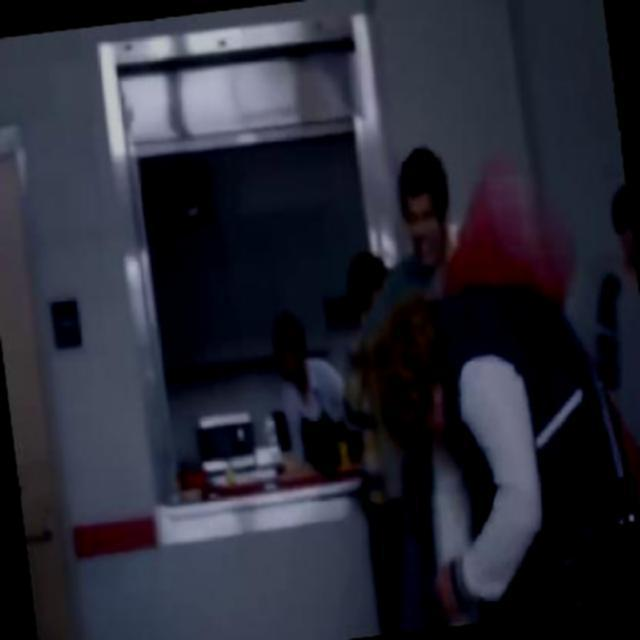fight: (332, 128, 623, 634)
